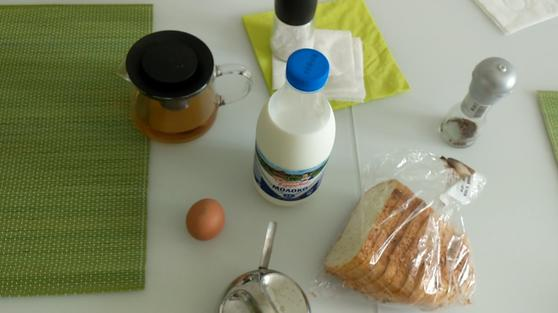egg: (186, 199, 226, 240)
